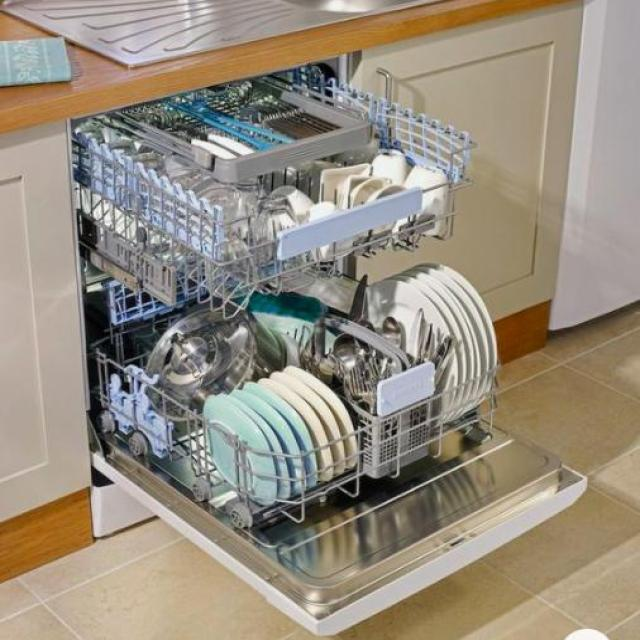dishwasher: (72, 53, 591, 632)
